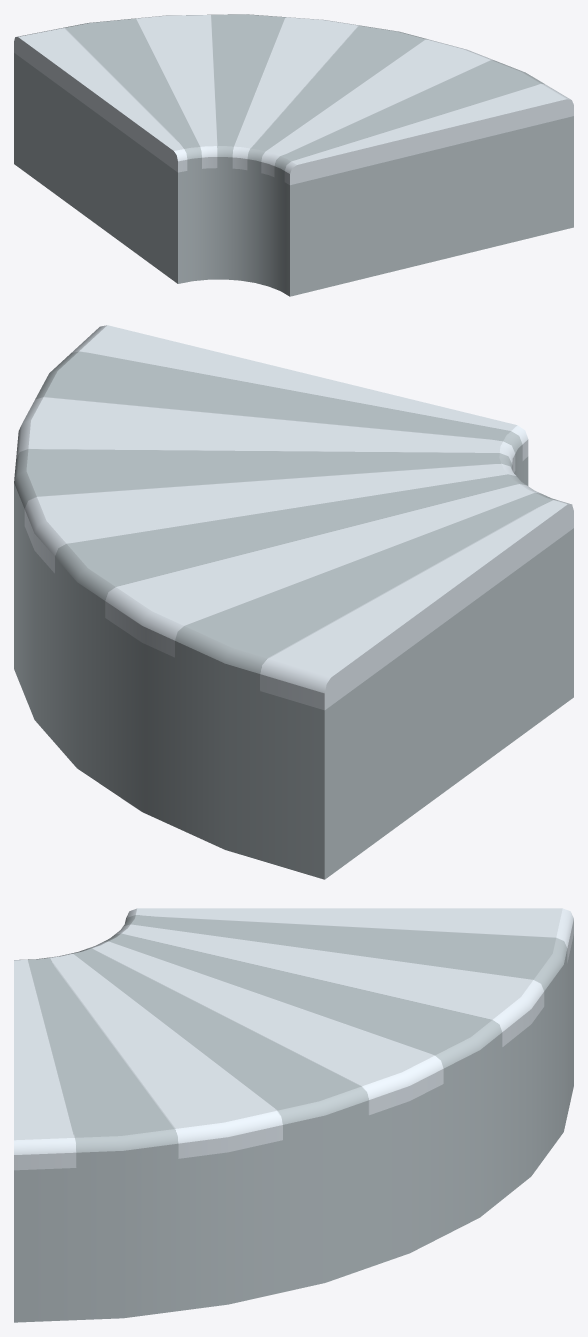
File: Turn 90 small.fbx
The picture shows the model from 3 angles, top to bottom: view 1: azimuth 30°, elevation 25°; view 2: azimuth 150°, elevation 25°; view 3: azimuth 270°, elevation 25°; orthographic projection. The views are drawn at different scales.
Parts seen in each view (by area): view 1: Turn_90_small, Turn_90_small_Cap; view 2: Turn_90_small_Cap, Turn_90_small; view 3: Turn_90_small_Cap, Turn_90_small.
Boxes of the visible parts, x1,y1,x2,y2 form: Turn_90_small: (14, 53, 573, 296); Turn_90_small_Cap: (14, 14, 573, 185); Turn_90_small_Cap: (14, 325, 573, 710); Turn_90_small: (14, 456, 573, 879); Turn_90_small_Cap: (14, 908, 573, 1170); Turn_90_small: (14, 934, 573, 1322).
Size of the model in its own units: 1000 by 350 by 1000.
